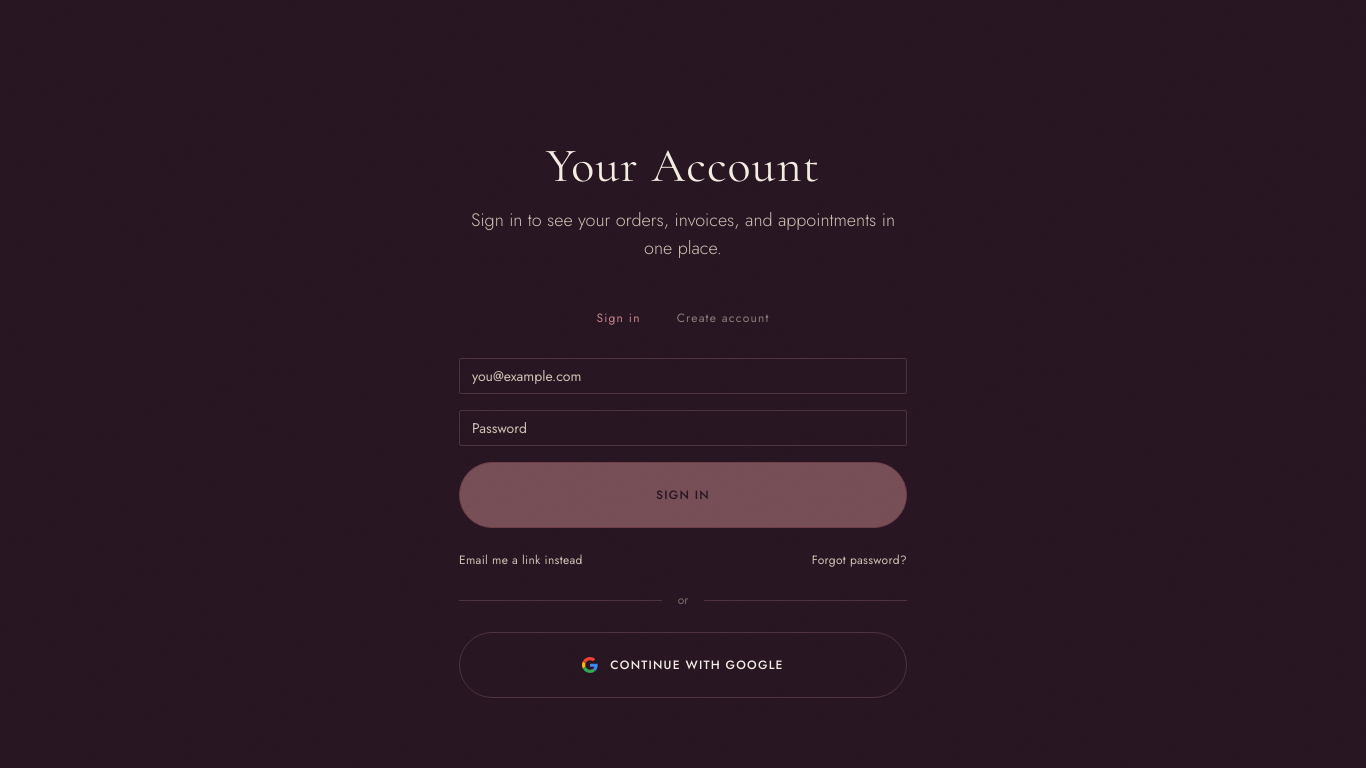
Scenario: Account login › requests a magic link and shows the confirmation
In the field with test id "input-email": point(683, 376) [459,358,907,394], type "skater@example.com"
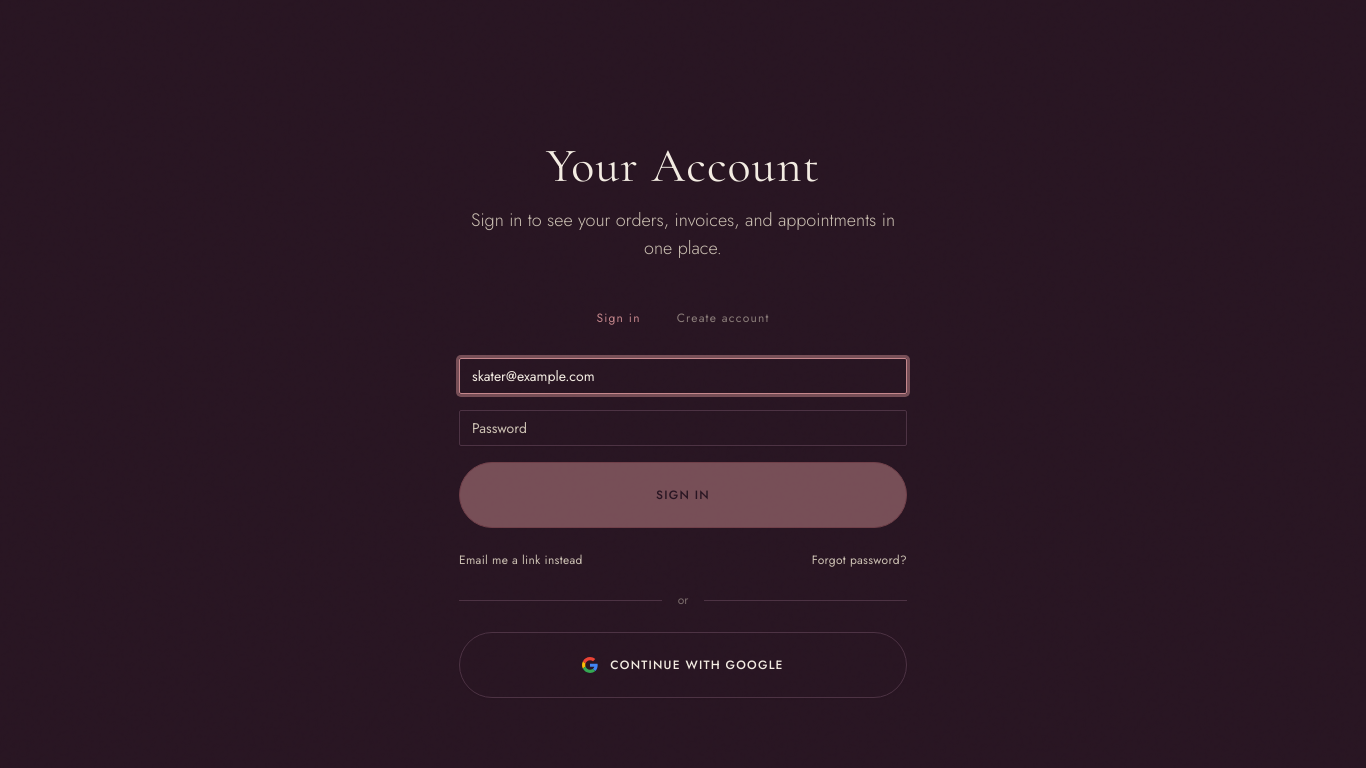
Click the button with test id "button-magic-link": point(521, 560) [459,552,583,568]
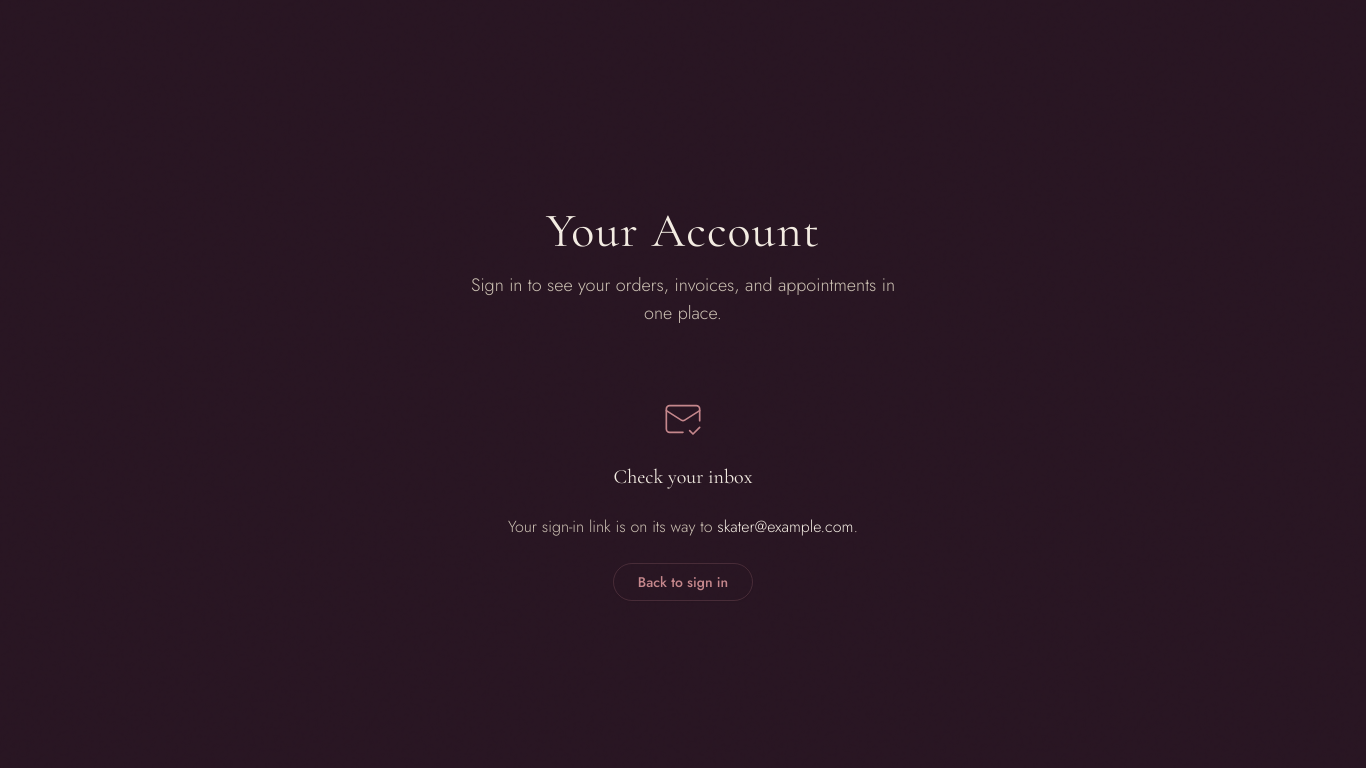
Check: the element with test id "login-notice" shows "skater@example.com", box [717,515,854,538]
